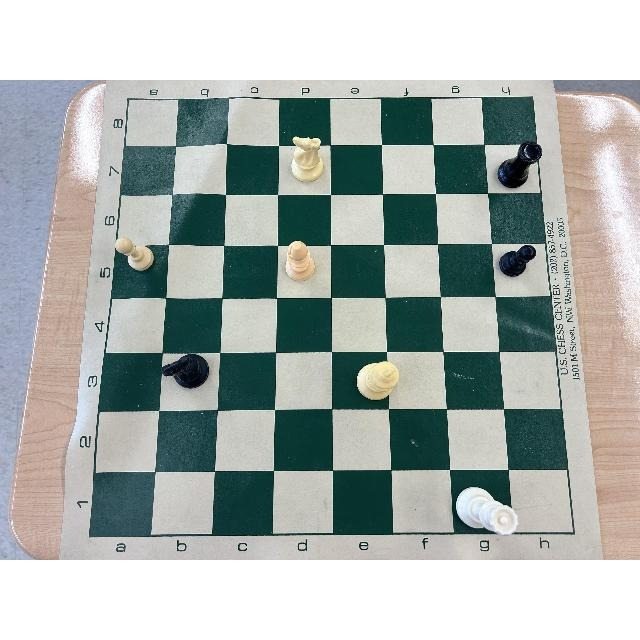black-knight: (161, 351, 208, 389)
black-pawn: (499, 244, 537, 278)
black-rook: (497, 141, 543, 188)
white-bishop: (285, 240, 316, 282)
white-king: (357, 361, 401, 401)
white-knight: (290, 134, 326, 184)
white-pawn: (114, 236, 156, 272)
white-queen: (456, 486, 520, 536)
